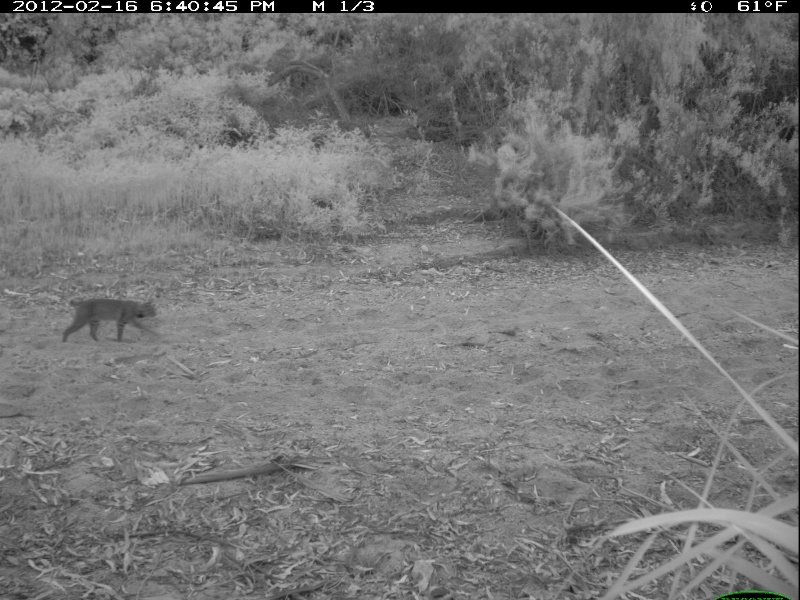cat: (60, 297, 160, 344)
